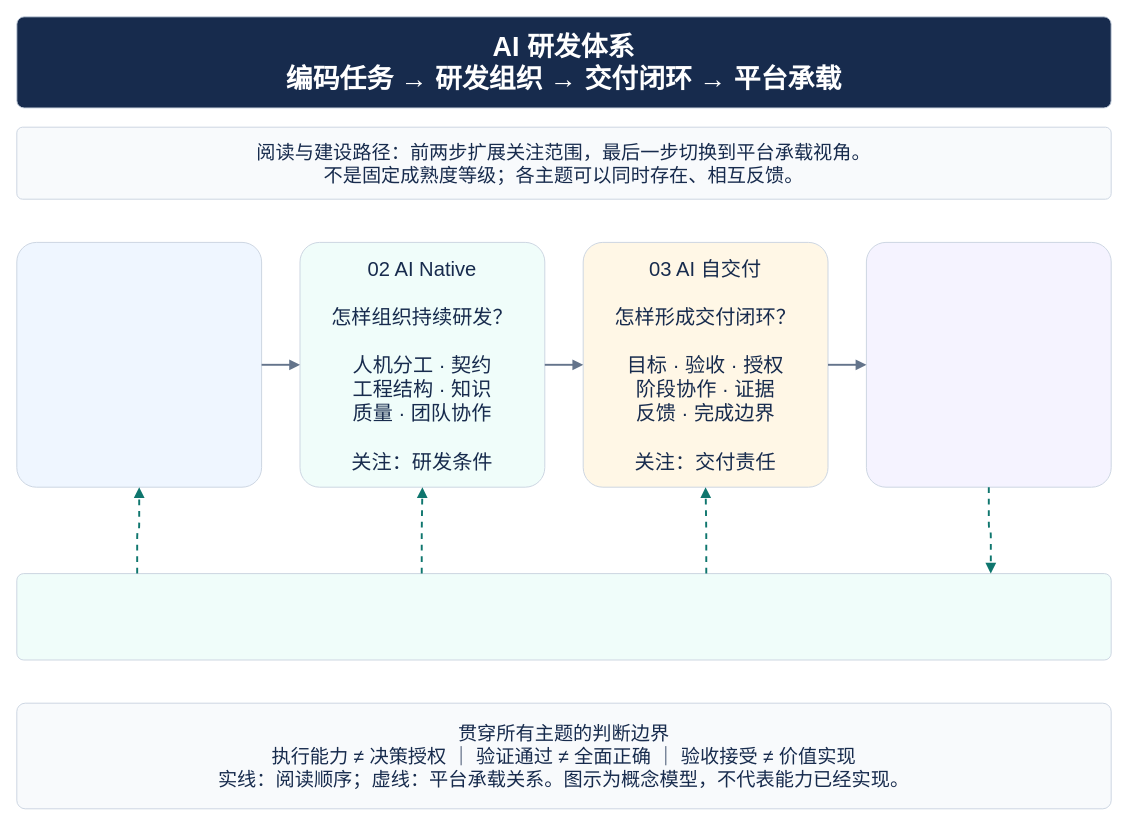
This 1128x826 diagram has some shape labels left out. The centre of each missing label's shape, as x and y in pixels:
"01 AI coding 怎样做好编码任务？ 上下文 · 任务拆分 实现 · 诊断 测试 · 审阅 关注：可检查的变更" belongs at (139,364).
"04 AI 研发 Agent 平台 怎样统一承载与治理？ 项目 · 任务 · 能力 上下文 · 工具 · 证据 关注：组织与追溯" belongs at (988,364).
"平台可以承载前三类工作，不要求先完成前三步再建设。 没有统一平台也可组织交付；拥有平台不代表编码正确、交付可靠或价值实现。" belongs at (563,616).
